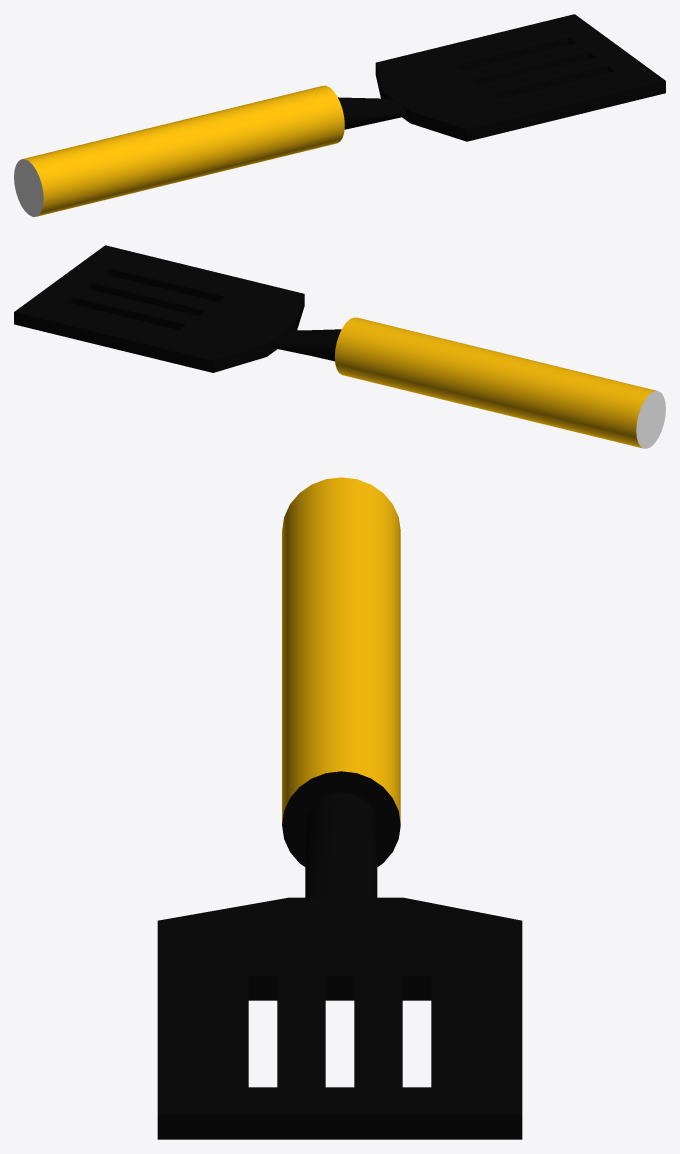
The model's file is turner_05_origin_gt_1.dae.
The picture shows the model from 3 angles, top to bottom: view 1: azimuth 30°, elevation 25°; view 2: azimuth 150°, elevation 25°; view 3: azimuth 270°, elevation 25°; orthographic projection. The views are drawn at different scales.
Parts seen in each view (by area): view 1: Untitled (×6); view 2: Untitled (×6); view 3: Untitled (×3).
Boxes of the visible parts, x1,y1,x2,y2 form: Untitled (×6): (14, 14, 665, 216); Untitled (×6): (14, 245, 665, 448); Untitled (×3): (157, 477, 522, 1139).
Size of the model in its own units: 21.91 by 5.86 by 1.91.
